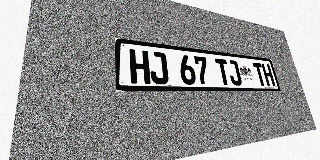6: (178, 54, 197, 85)
7: (193, 56, 211, 85)
H: (129, 49, 151, 84), (261, 63, 275, 86)
J: (149, 51, 169, 84), (226, 60, 242, 85)
T: (215, 58, 231, 85), (252, 62, 267, 86)
